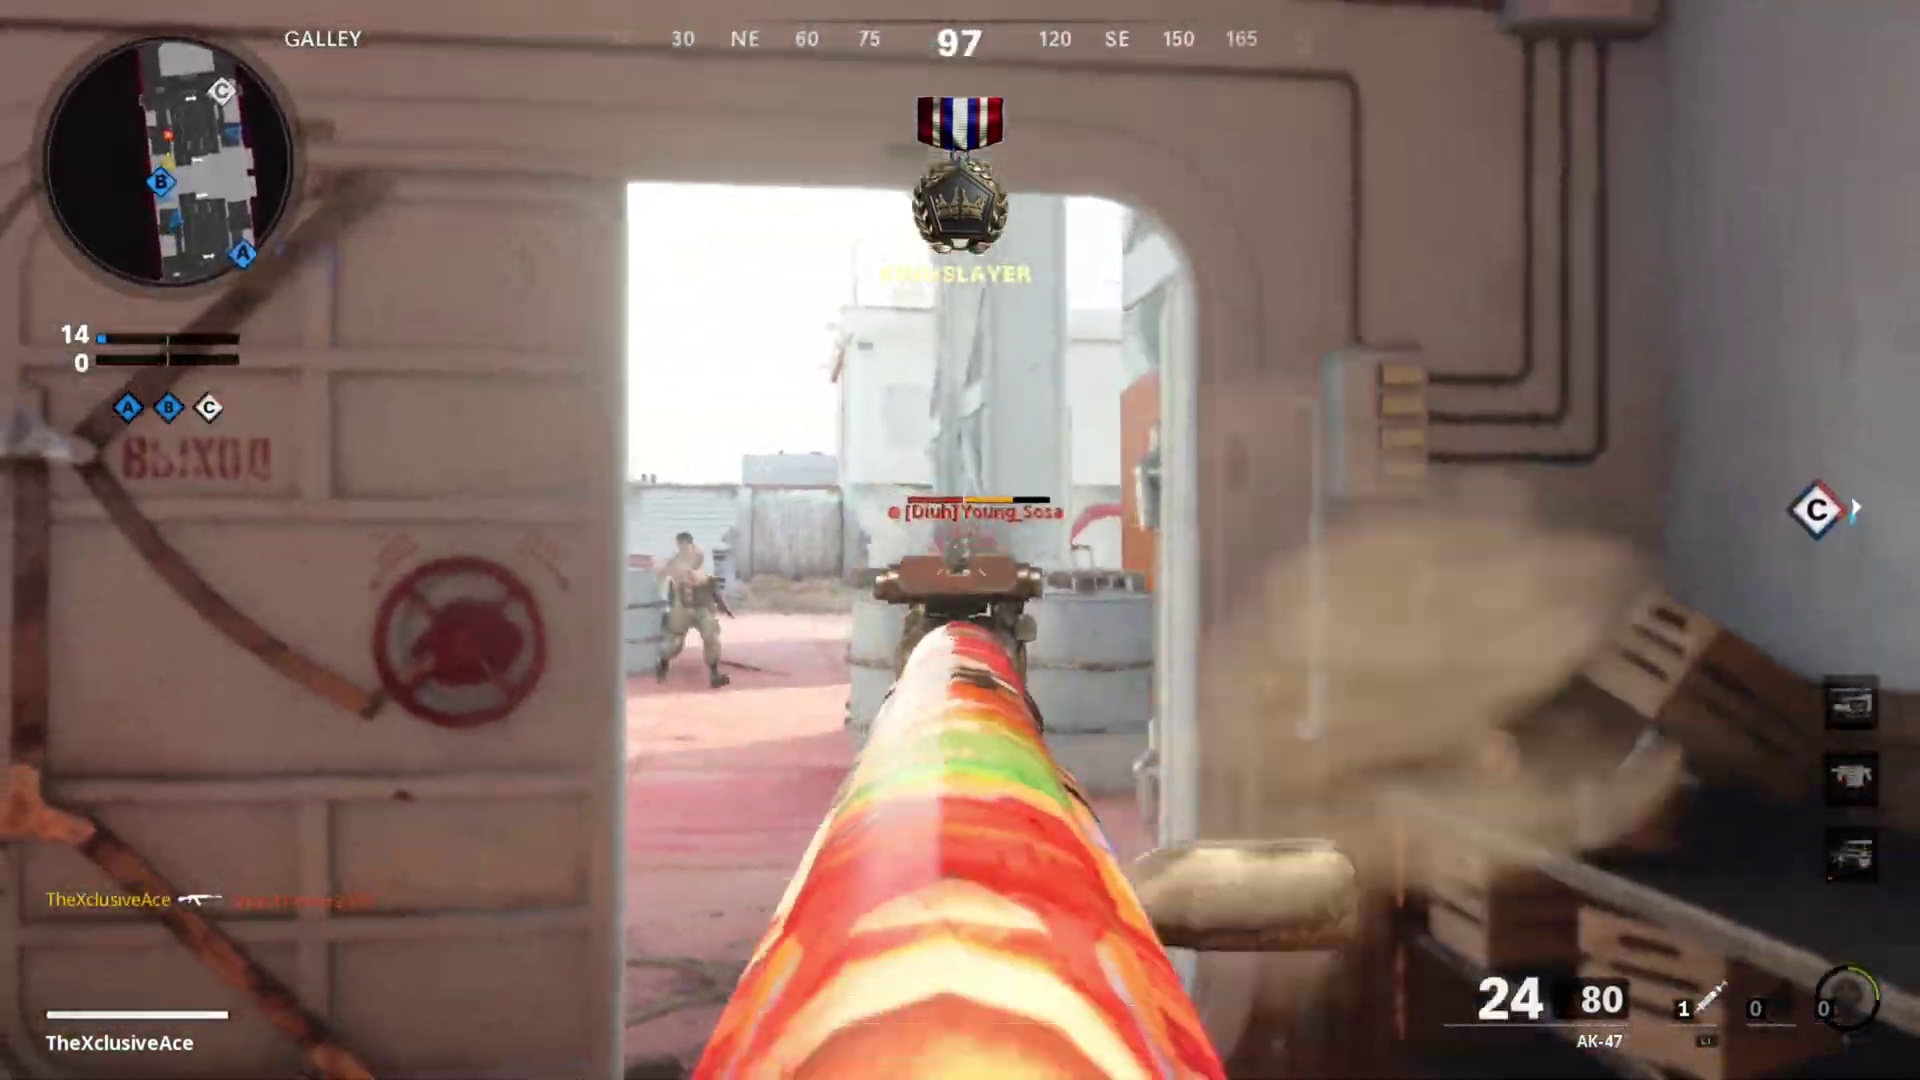head: (672, 524, 697, 564)
person: (650, 529, 732, 685)
